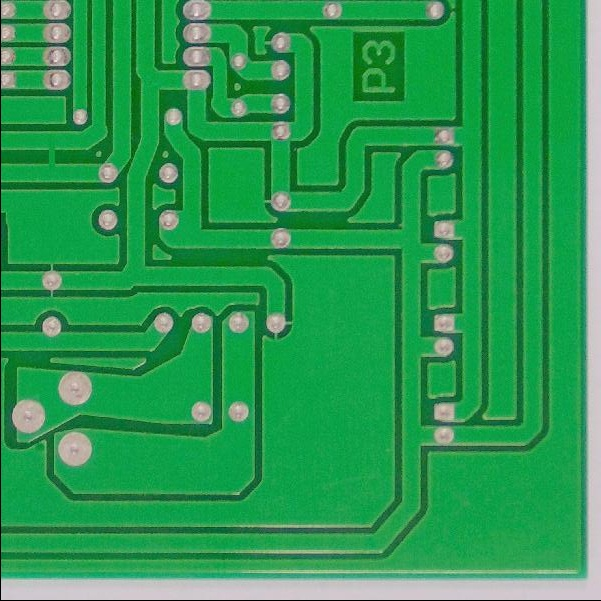short: (28, 132, 72, 185)
